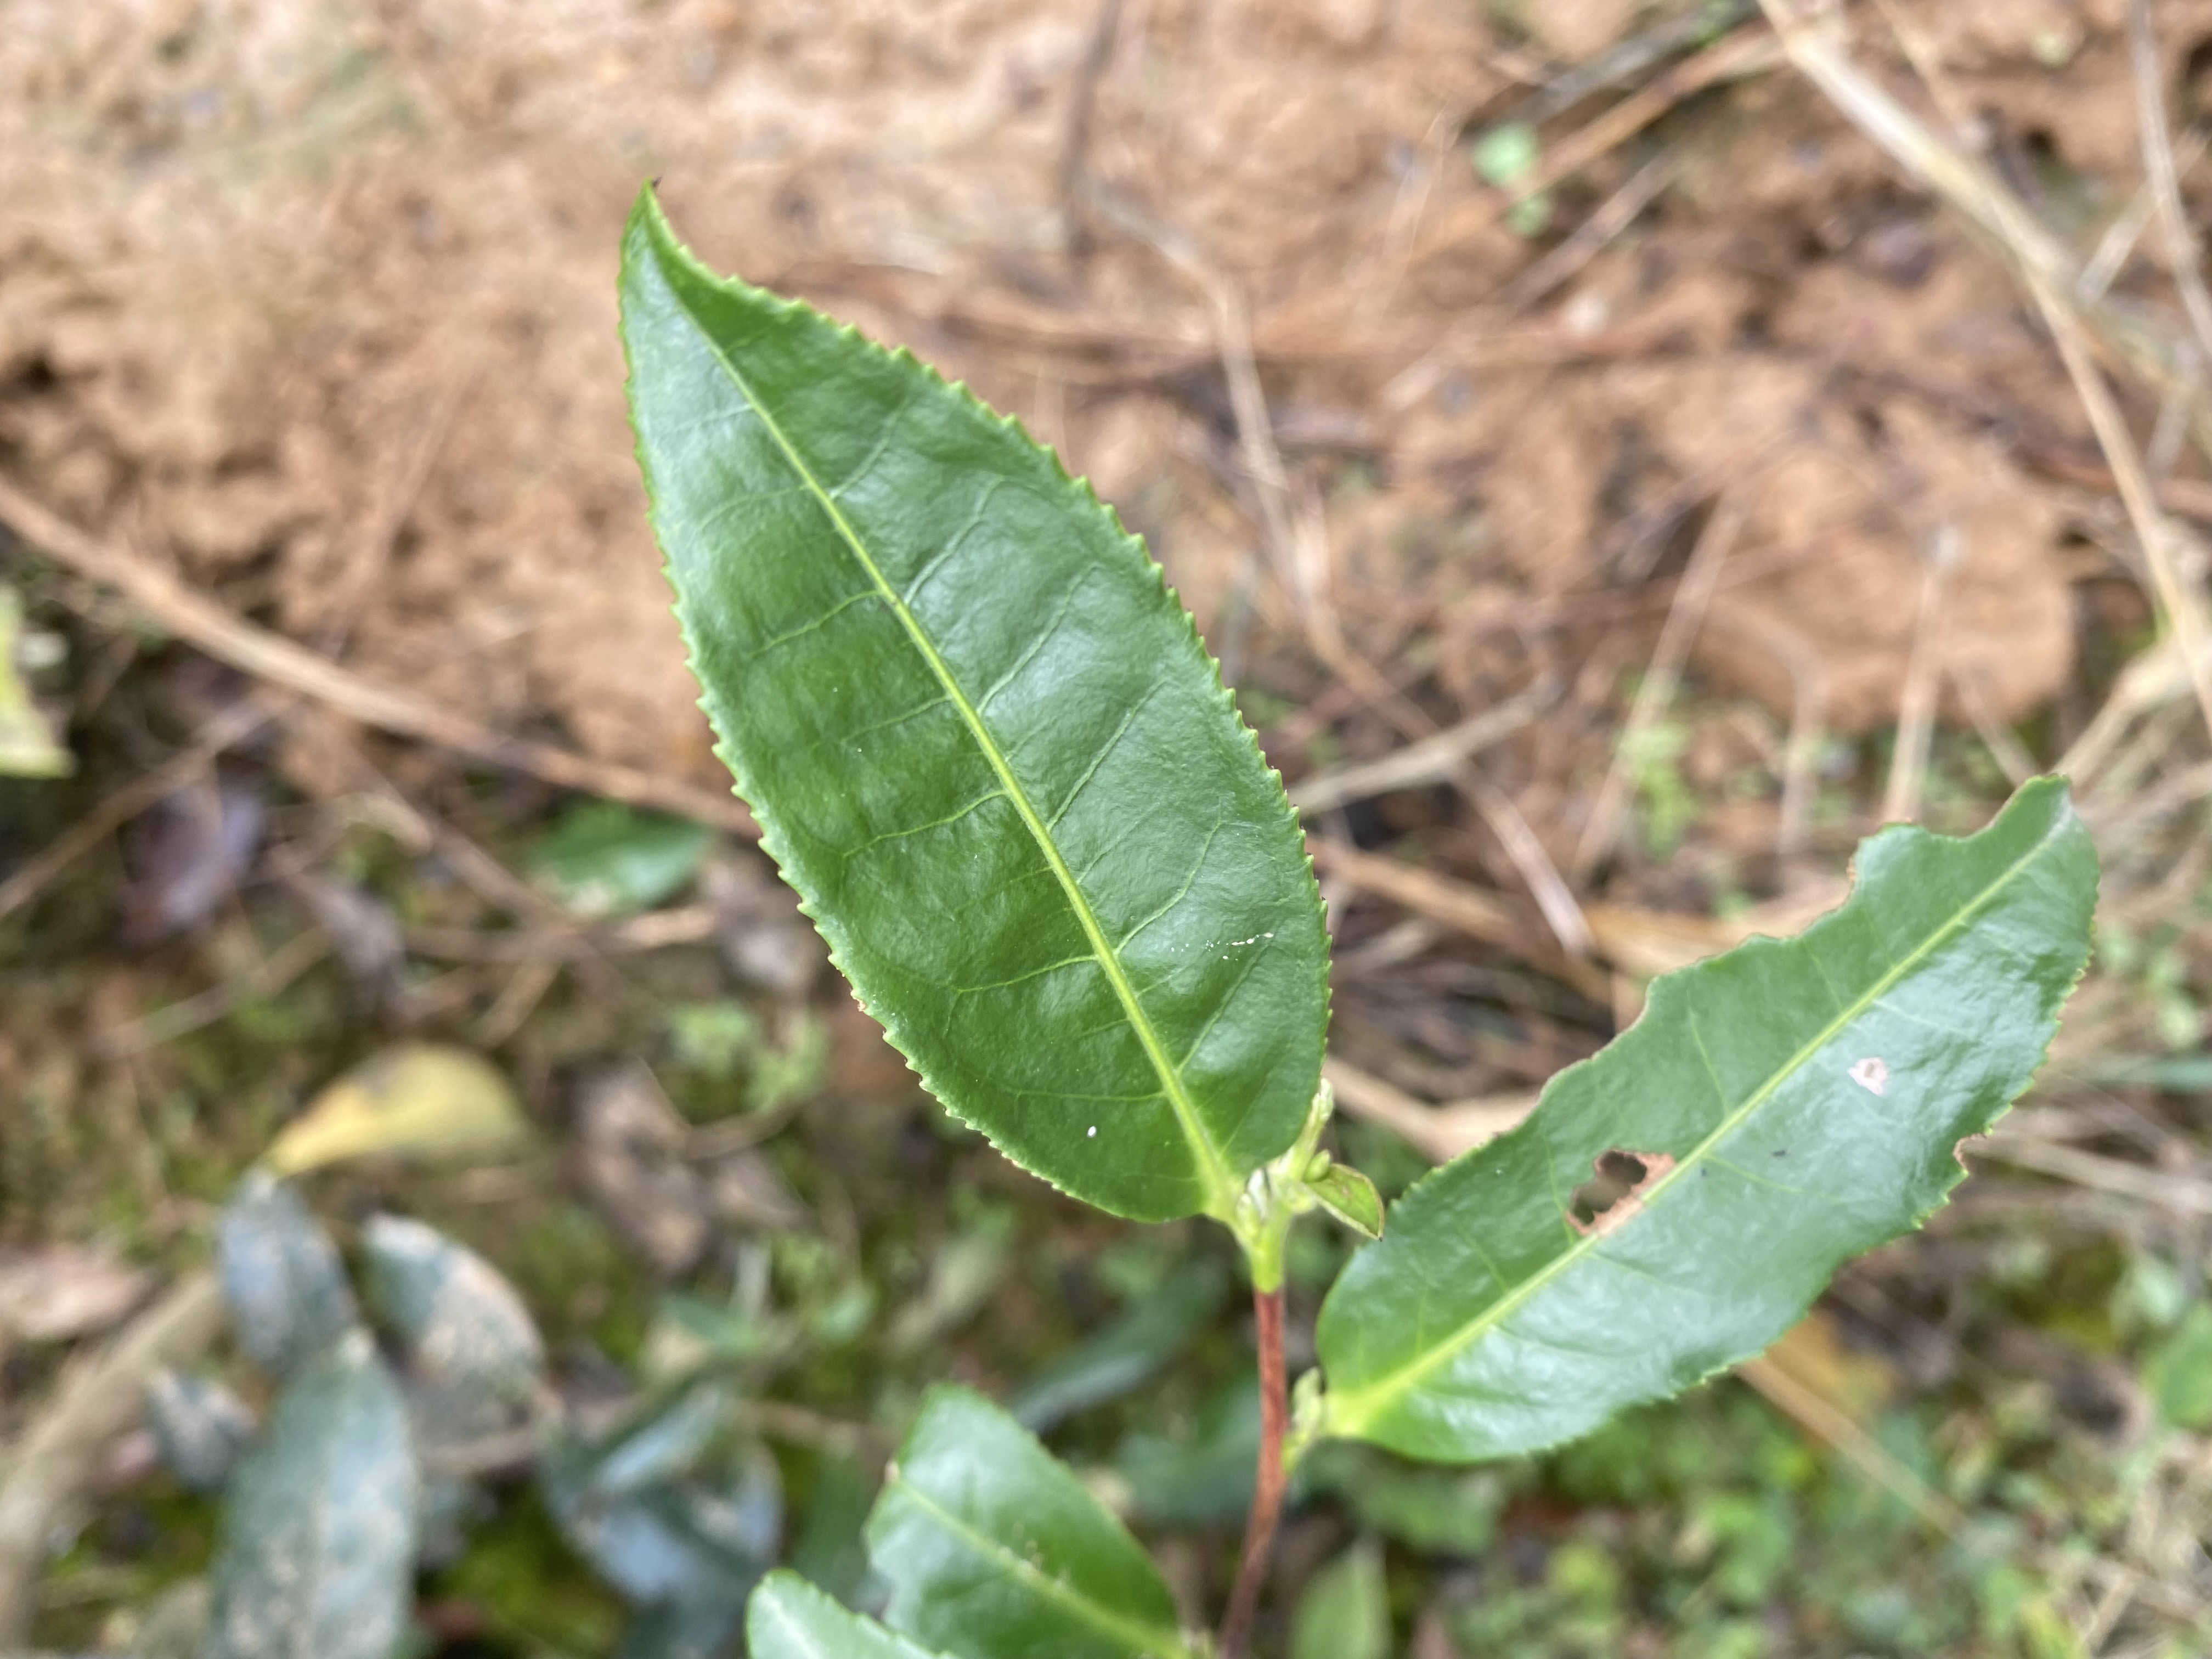chihuo_high: (1317, 775, 2106, 1473)
healthy: (618, 178, 1338, 1227)
